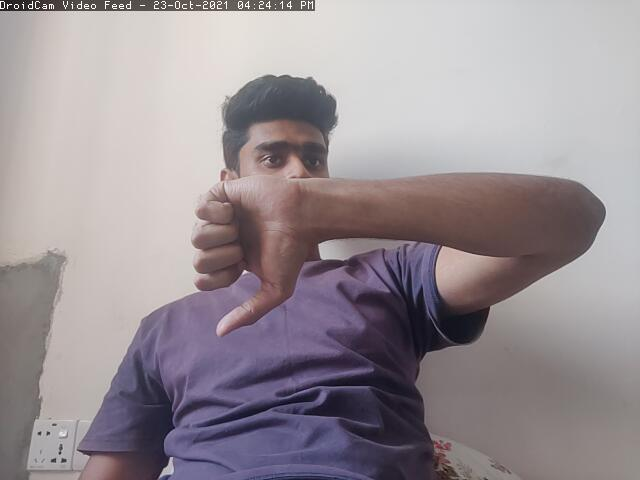ThumbsDown: (187, 170, 299, 337)
